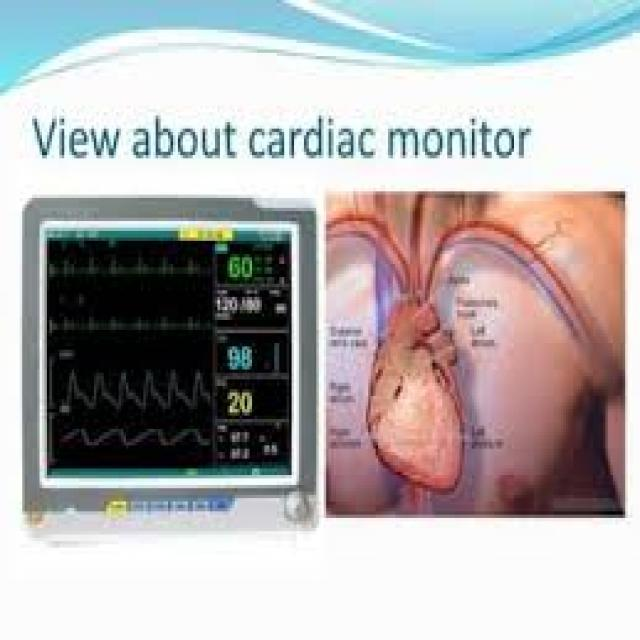cardiac_monitor: (33, 220, 325, 538)
